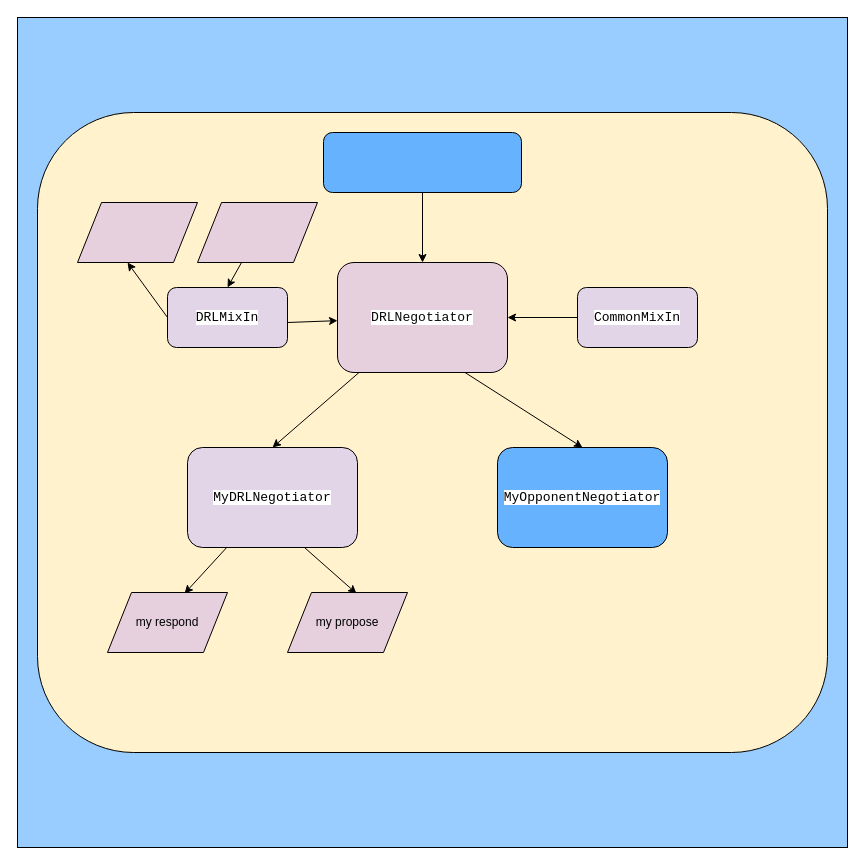
Image size: 865x865. Some labels were removed from this diagram. The shapes that lost their labels are listed below. From the top down, each one's box as (x1, y1, x2, y2) in pixels, then its label:
(322, 132, 522, 192): Negotiator
(76, 202, 198, 262): observation
(196, 202, 318, 262): action
